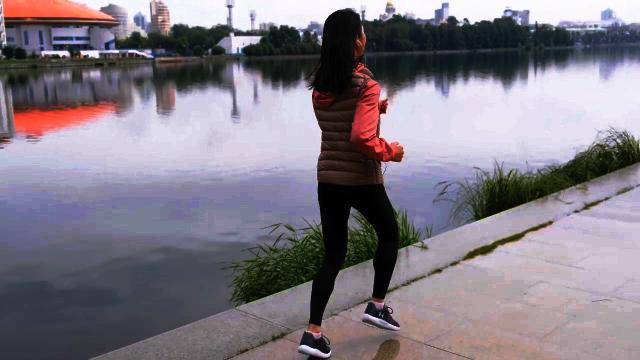berlari: (276, 8, 404, 360)
